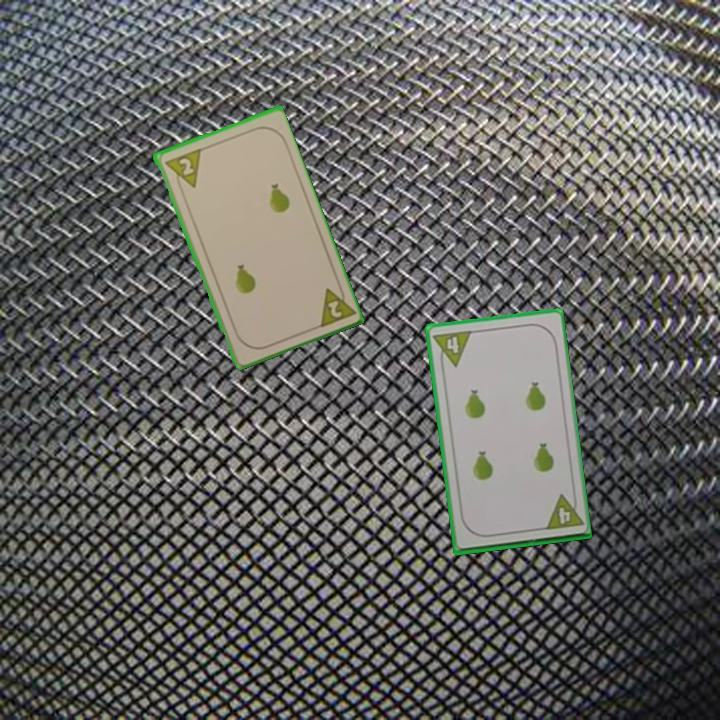2p: (314, 279, 356, 331), (161, 145, 203, 195)
4p: (430, 327, 474, 371), (541, 490, 585, 533)
